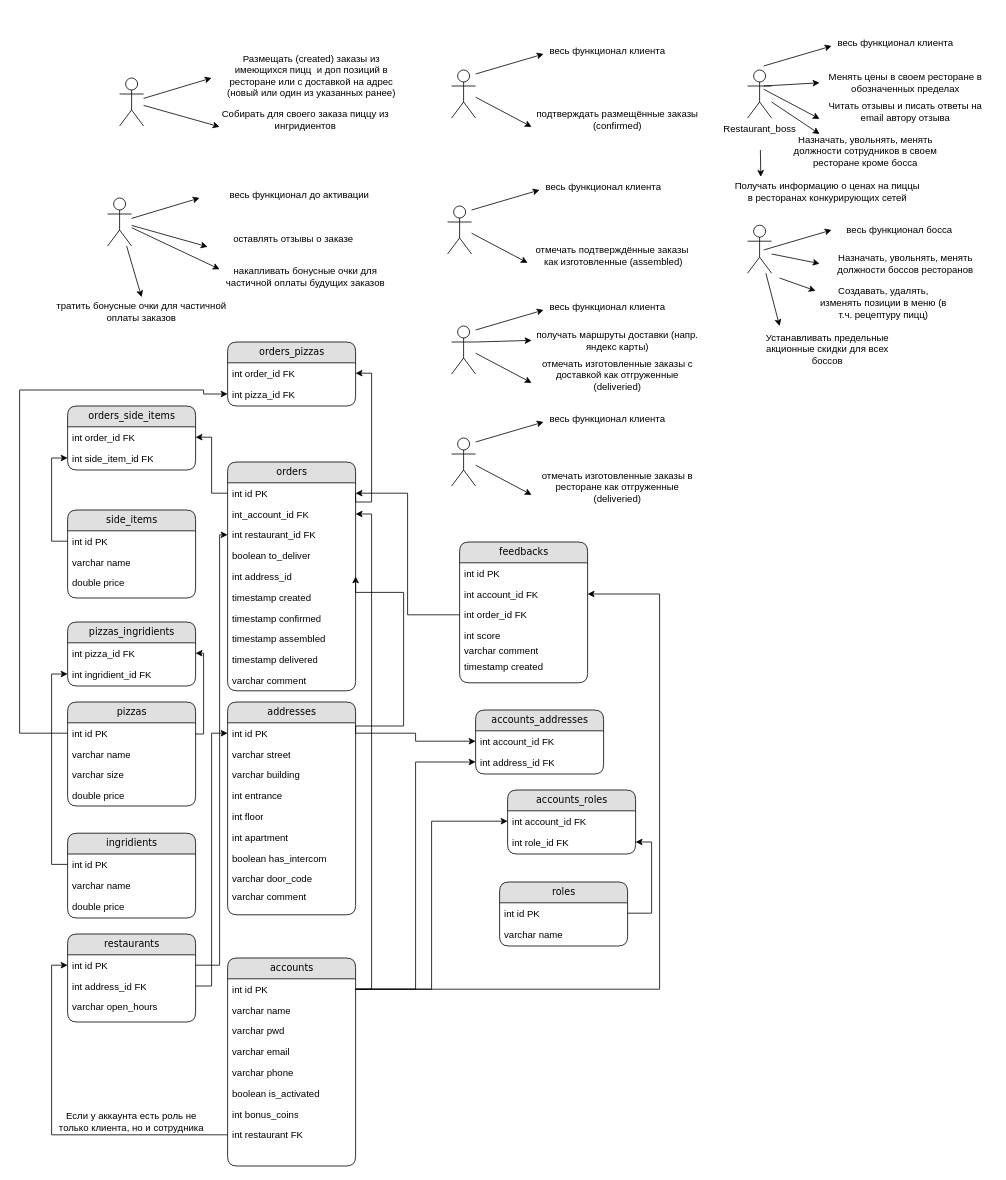
This 1006x1180 diagram has some shape labels left out. Each missing label, with the centre of its shape:
"Call_operator" goes at [463,93].
"CEO" goes at [759,248].
"Client (account active)" goes at [119,221].
"Client (account not active)" goes at [131,101].
"Cook" goes at [459,229].
"Deliveryman" goes at [463,349].
"Waiter" goes at [463,461].
